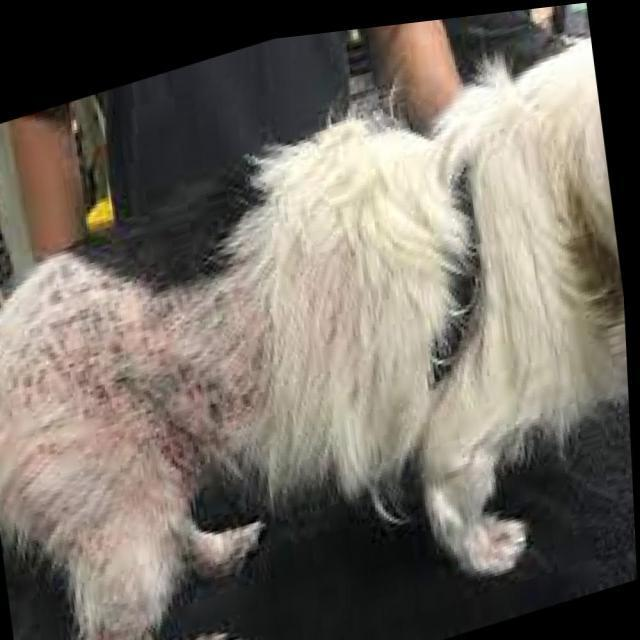allergic dermatitis: (5, 340, 182, 561), (23, 277, 275, 425)
